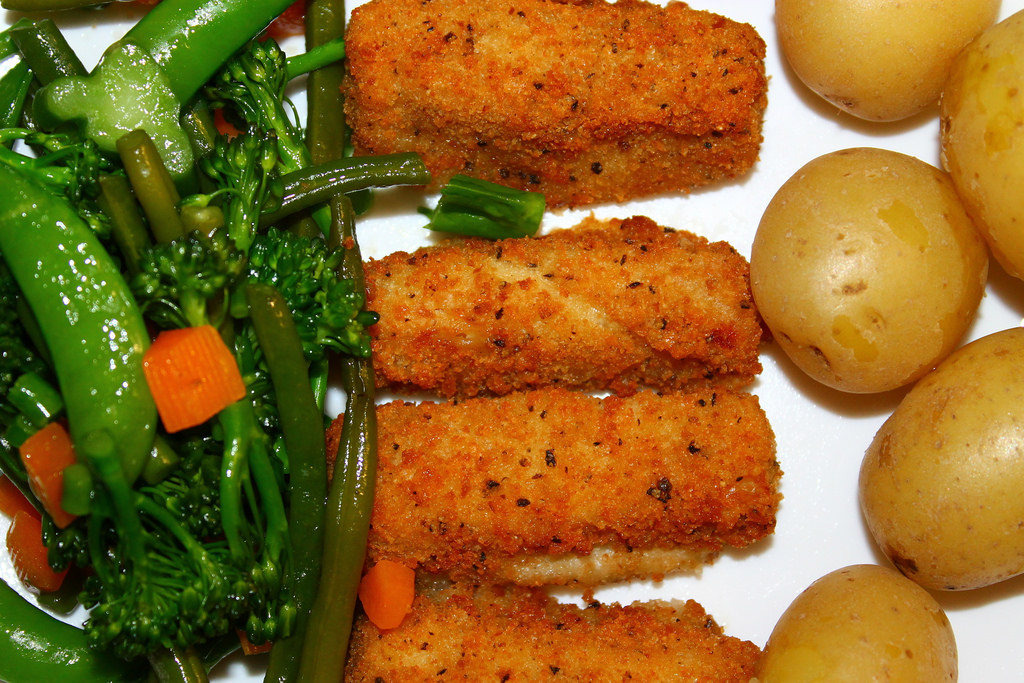boiled potatoes: (753, 145, 992, 407), (858, 328, 1024, 596), (746, 553, 975, 683), (780, 1, 1007, 128), (932, 14, 1024, 270)
